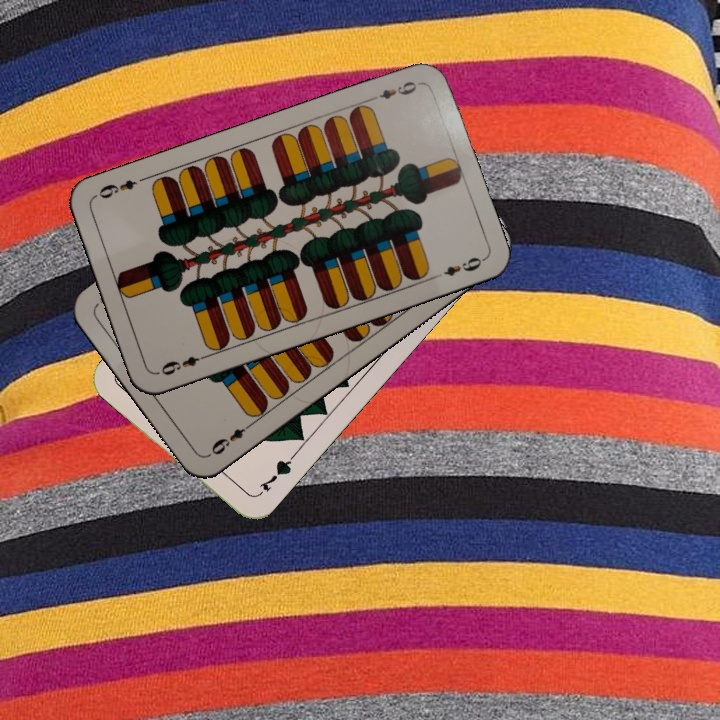E9: (205, 418, 256, 459), (154, 350, 212, 378), (366, 77, 424, 104)
G7: (252, 451, 297, 499)
